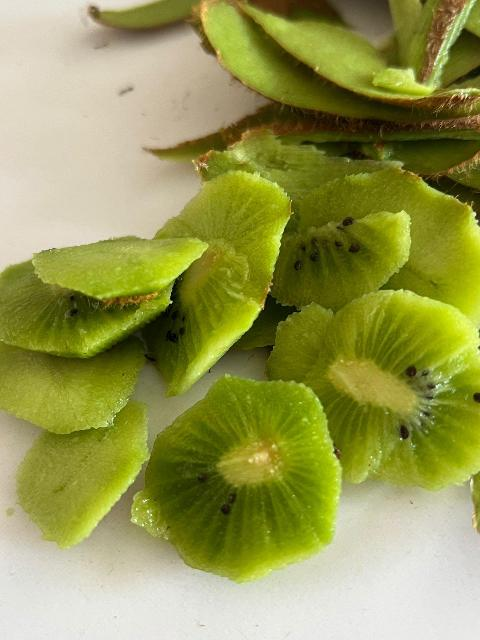Organik: (197, 139, 480, 331), (186, 0, 480, 105), (147, 177, 294, 364), (134, 91, 480, 169), (308, 311, 480, 466), (159, 388, 323, 547), (0, 339, 133, 438), (280, 211, 417, 305), (0, 272, 167, 348), (25, 425, 138, 528), (48, 250, 186, 302), (419, 0, 480, 94), (86, 0, 203, 36)
